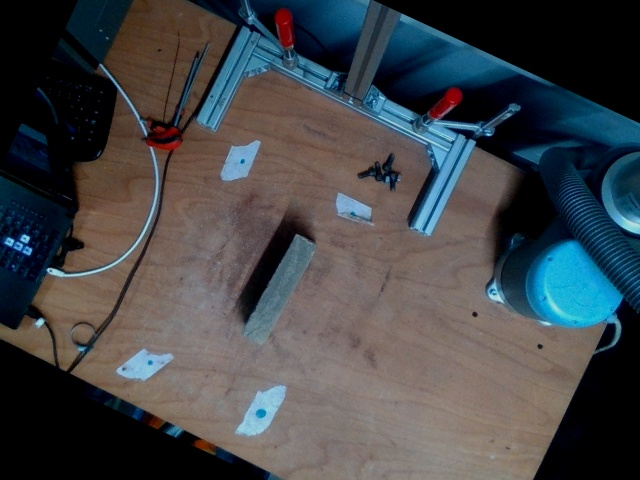brick-side: (241, 233, 318, 342)
